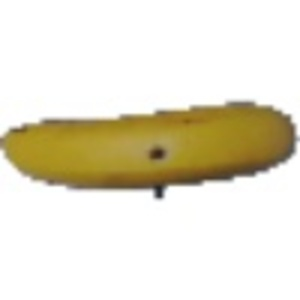banana: (2, 97, 298, 191)
